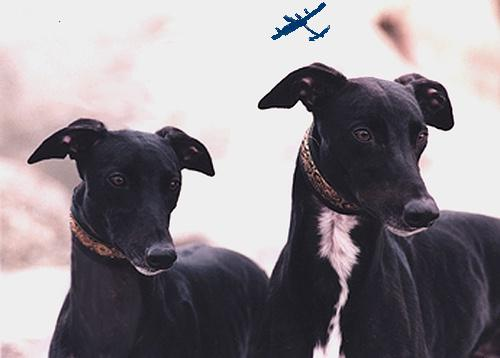tampered: (272, 3, 330, 41)
